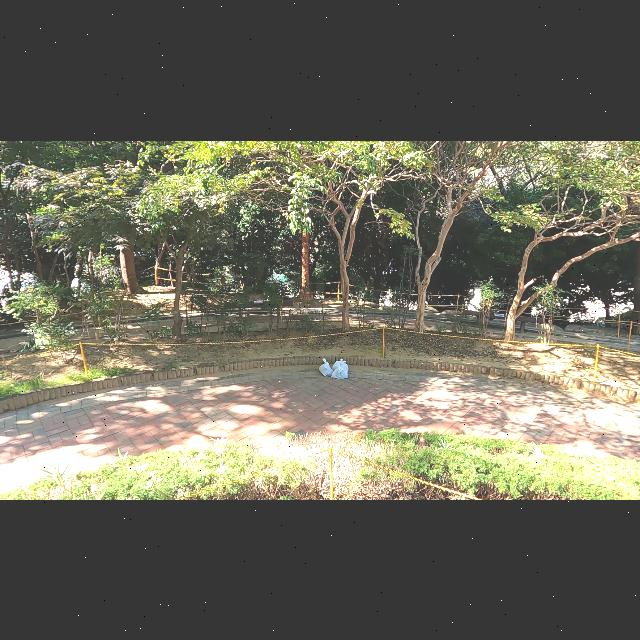trash: (318, 357, 334, 379), (330, 363, 350, 379), (332, 358, 351, 372)
